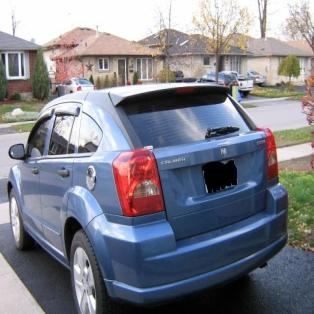Auto: (6, 84, 290, 313)
